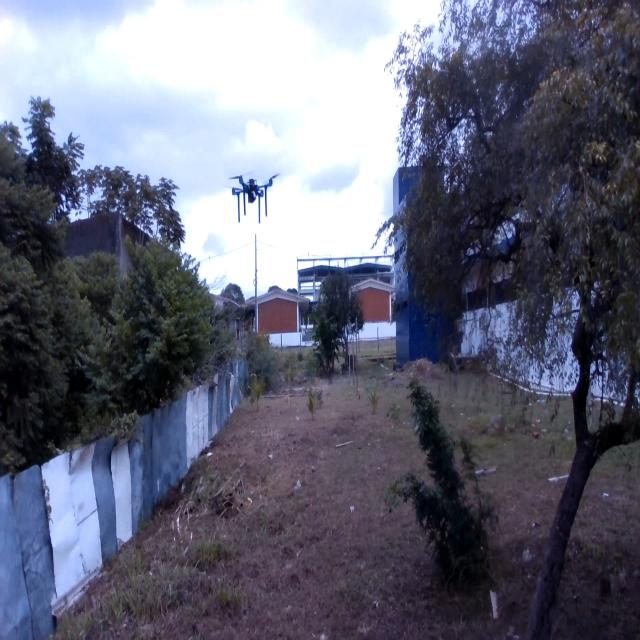-uav-: (225, 157, 284, 240)
